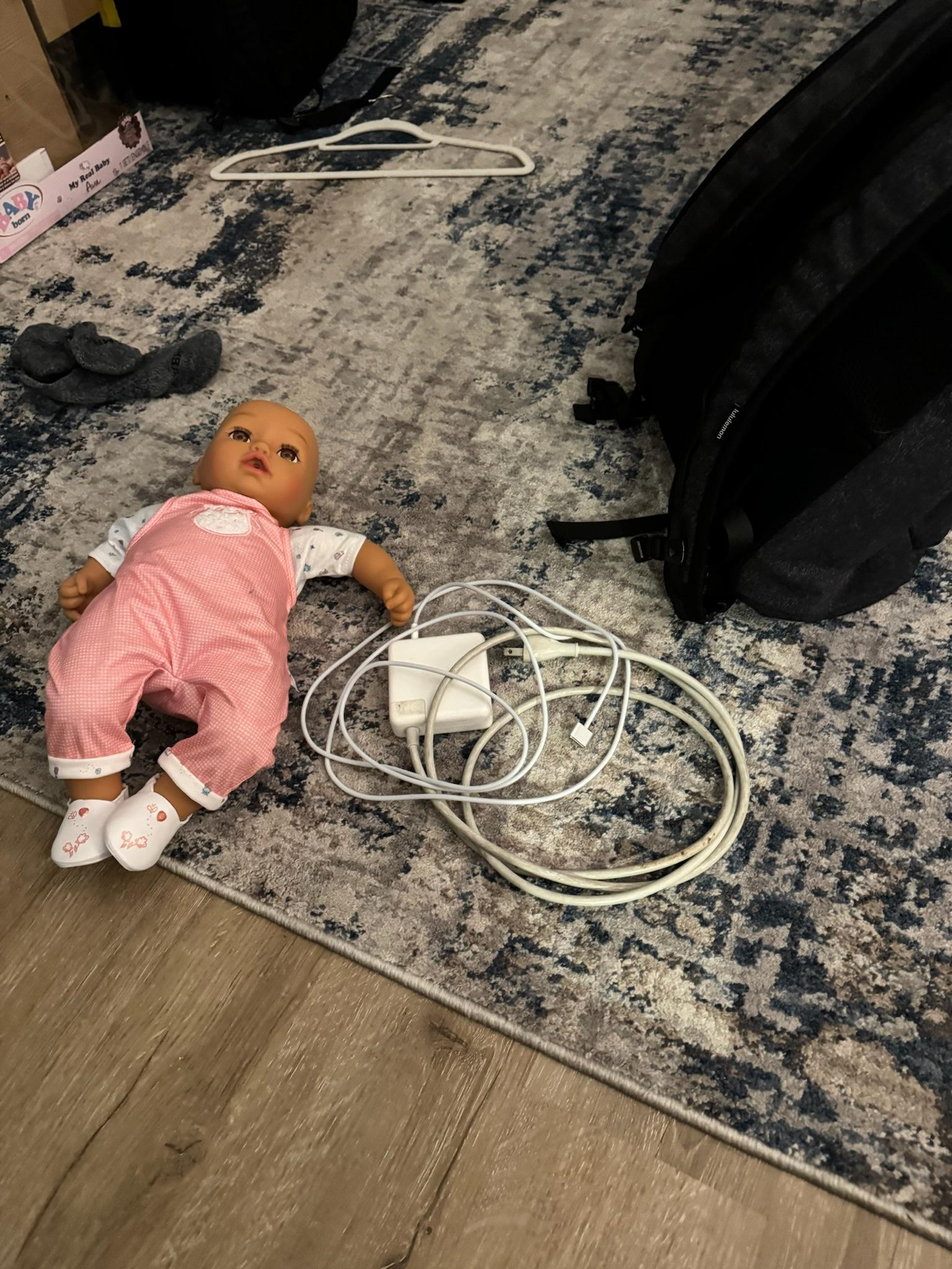baby: (37, 394, 380, 882)
